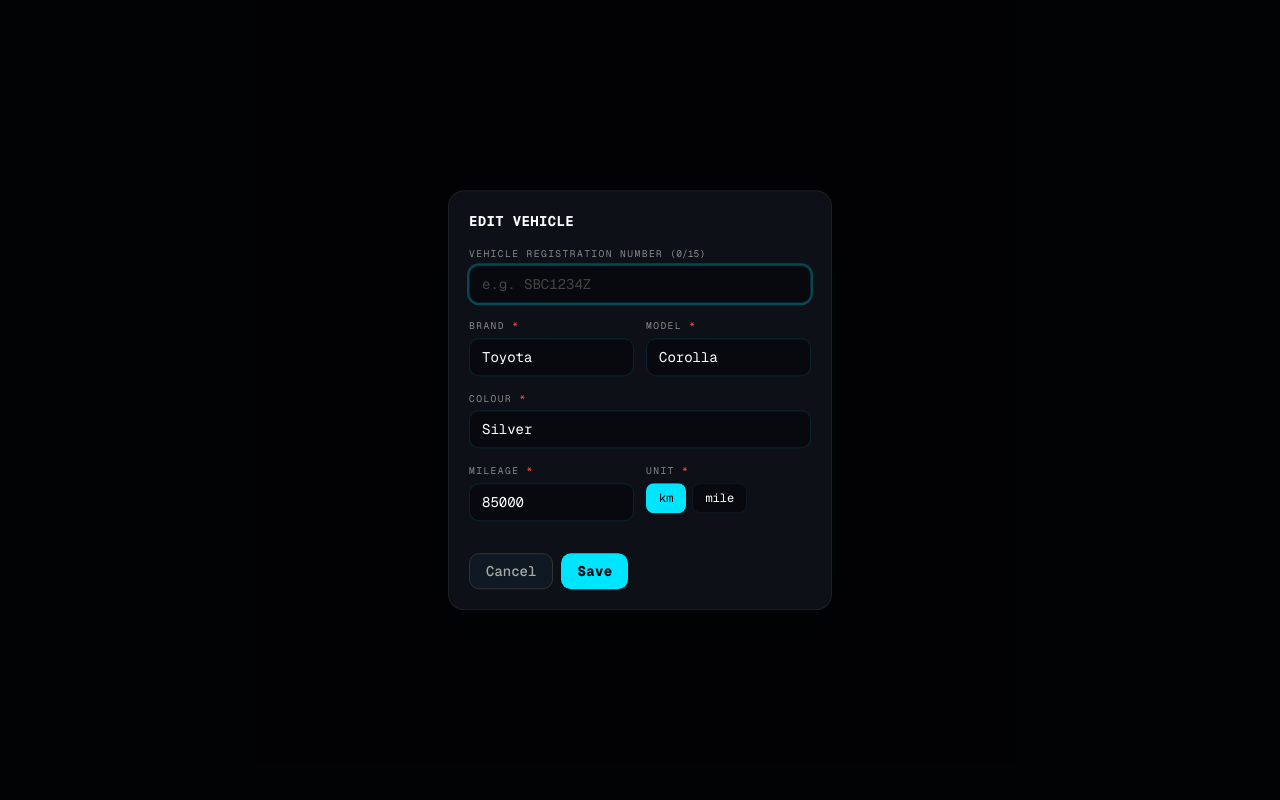
Test: VehicleFormDialog › disables Save button in edit mode when mileage is reduced below current vehicle mileage
# Change mileage to something lower than 85000
Replace the text in the number field labelled "Mileage *" with "80000" at (552,502), box [469,483,634,521]
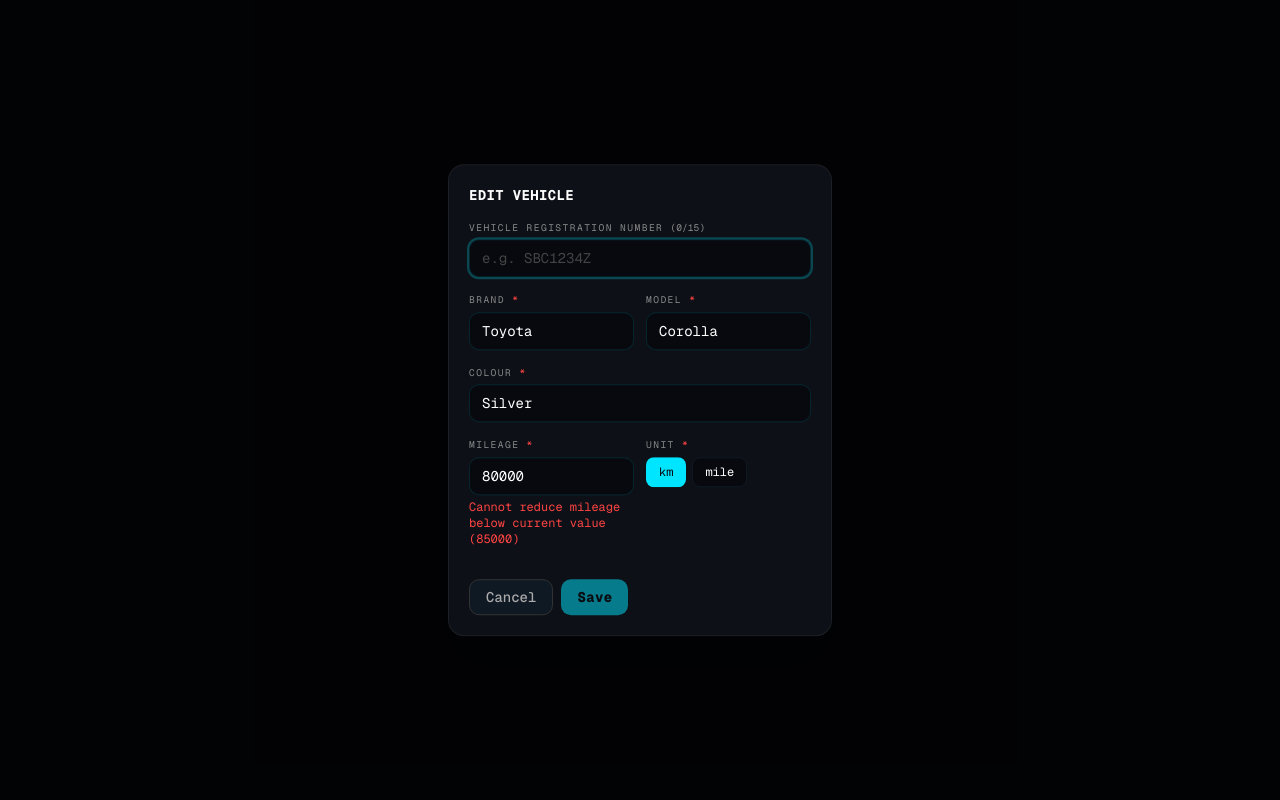
Check: the button "Save" is disabled, box [561,579,628,615]
